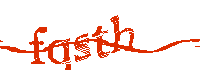f: (28, 26, 48, 65)
h: (110, 14, 135, 55)
q: (48, 38, 72, 70)
s: (73, 33, 92, 63)
t: (92, 25, 110, 59)
